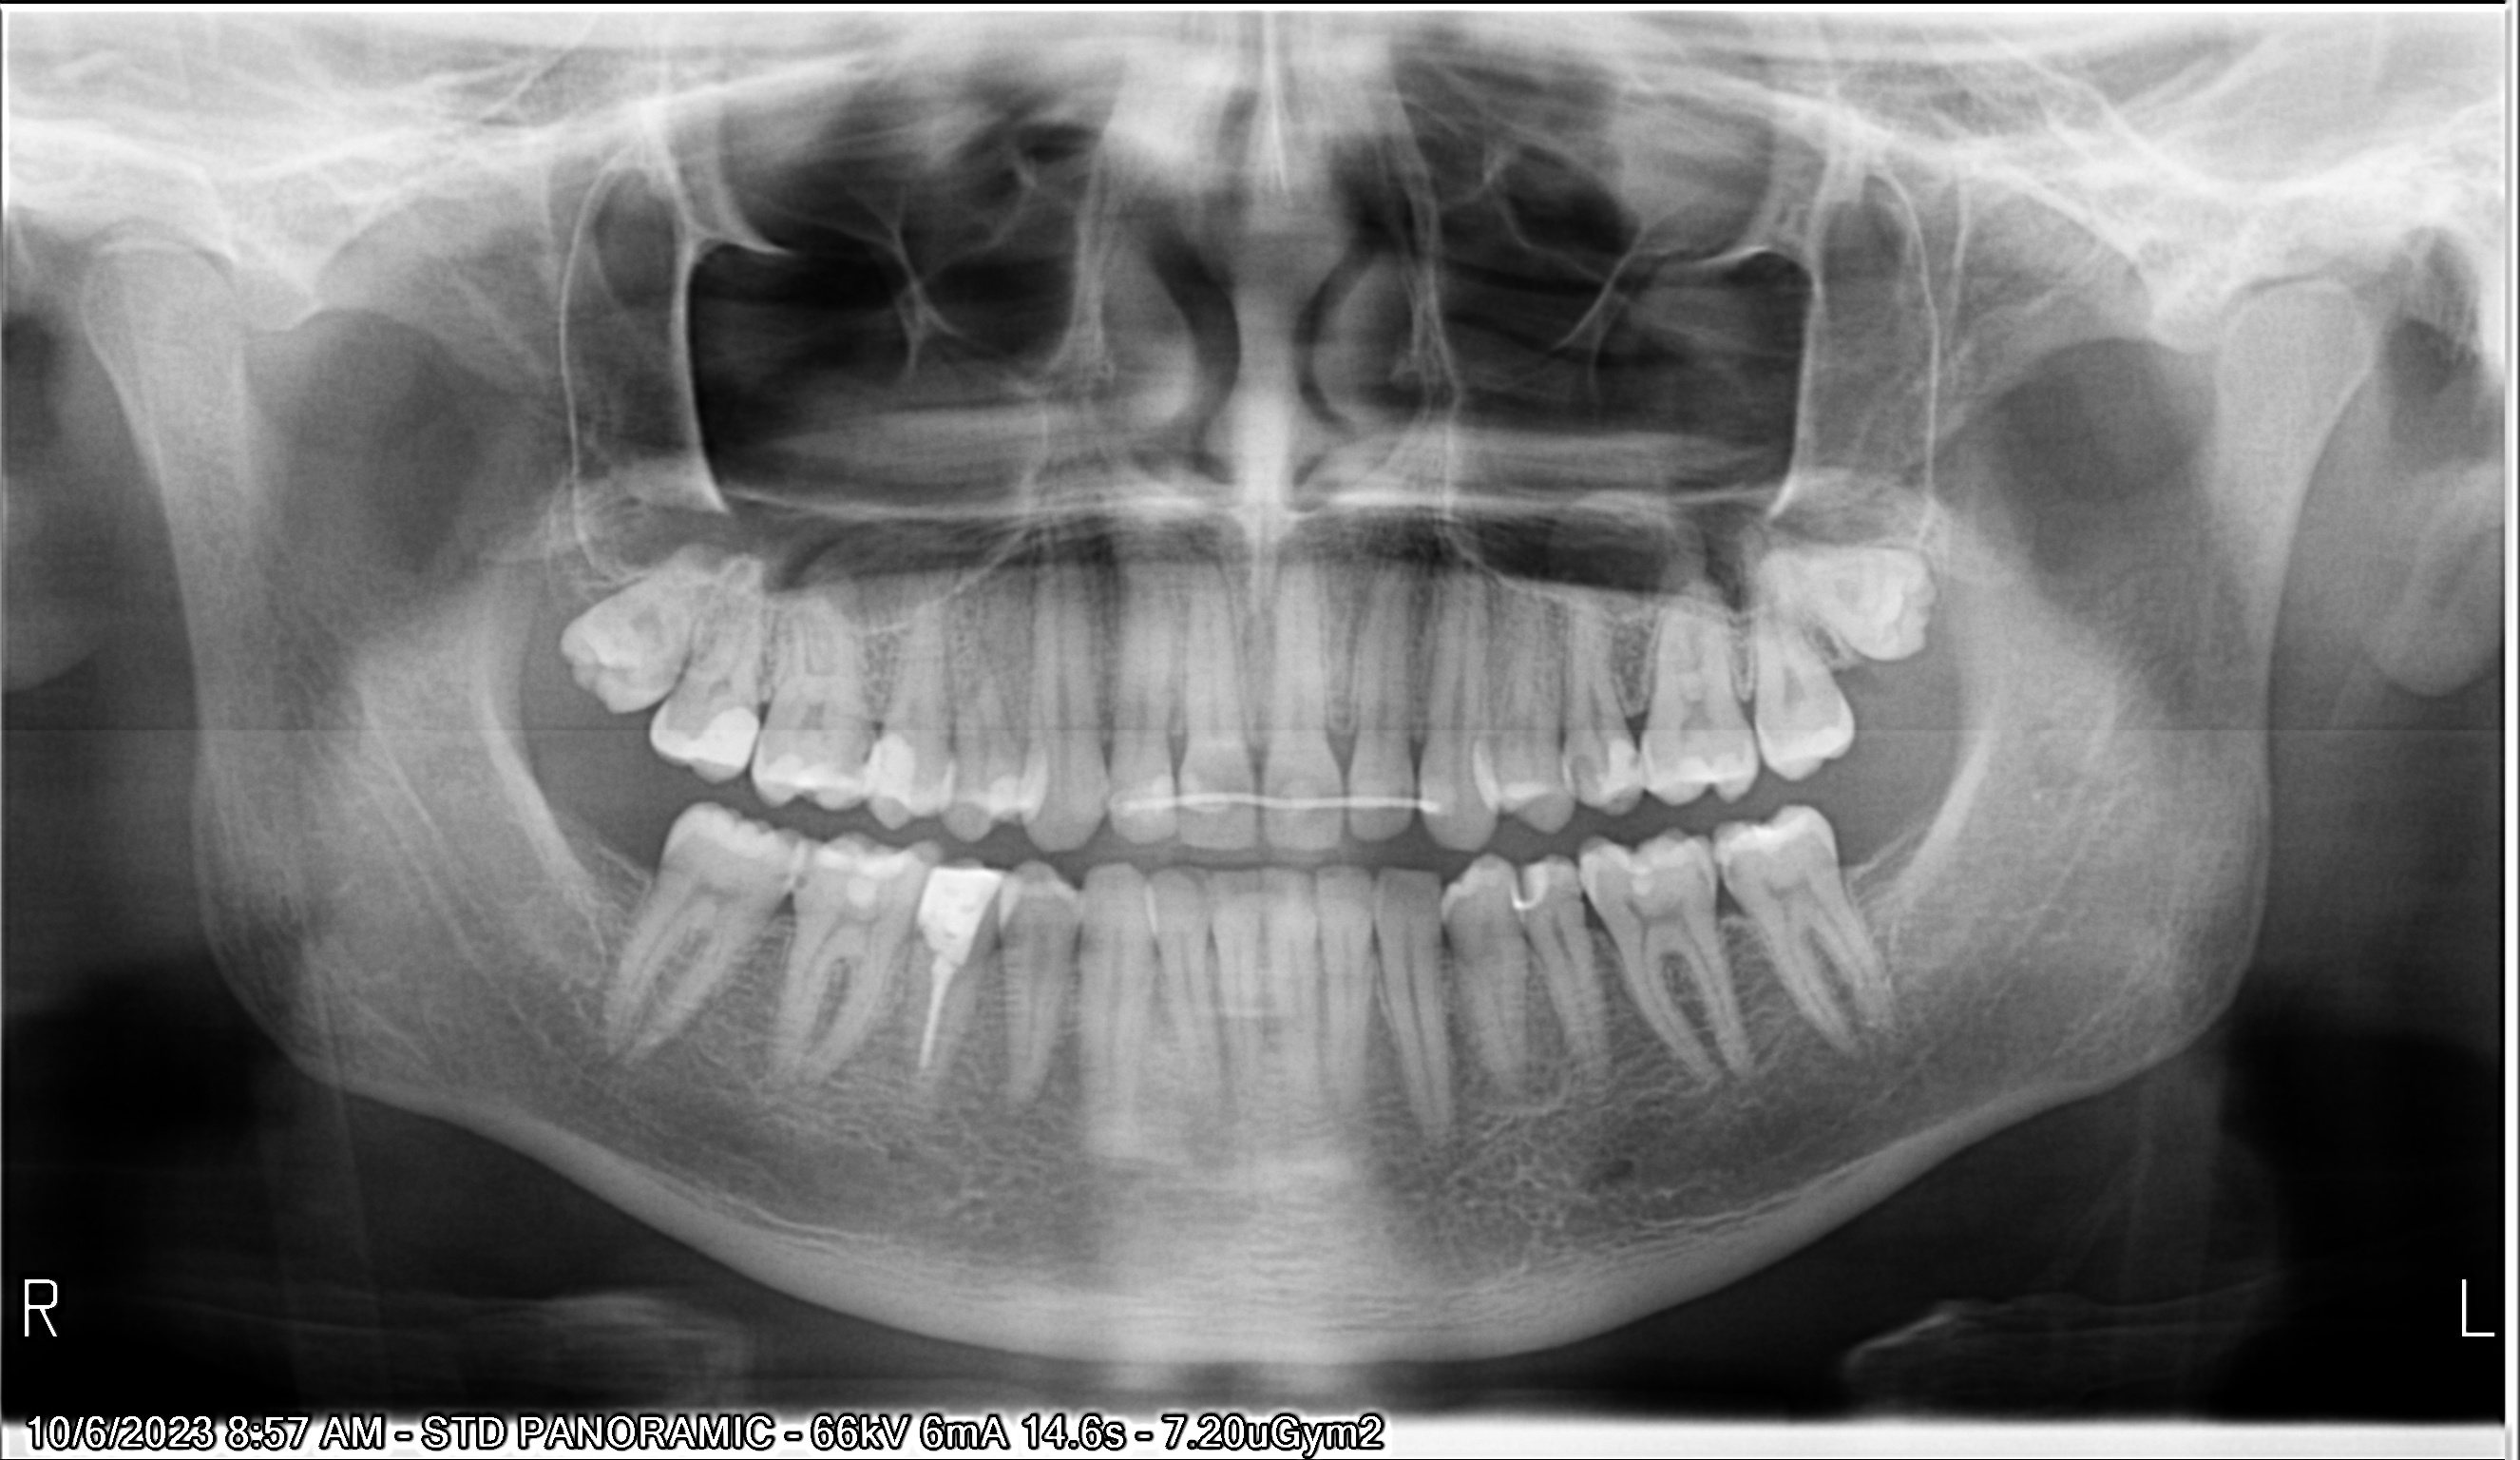CAR: (1563, 744, 1612, 801), (1711, 850, 1747, 892), (1686, 859, 1723, 893), (783, 871, 823, 899), (768, 859, 794, 888)
IMT: (1773, 509, 1954, 680)
OBT: (792, 820, 929, 923), (901, 860, 1007, 968), (679, 688, 776, 779), (1589, 827, 1695, 904), (1718, 806, 1827, 866), (865, 721, 931, 819), (980, 742, 1044, 829), (1646, 751, 1745, 798), (1768, 721, 1844, 775), (1502, 857, 1554, 926), (1589, 730, 1639, 796)
ORD: (1113, 775, 1461, 836)
